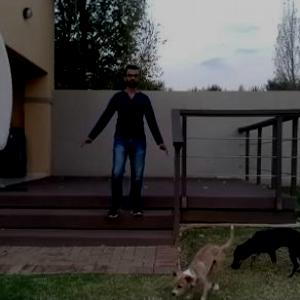land: (84, 67, 169, 224)
